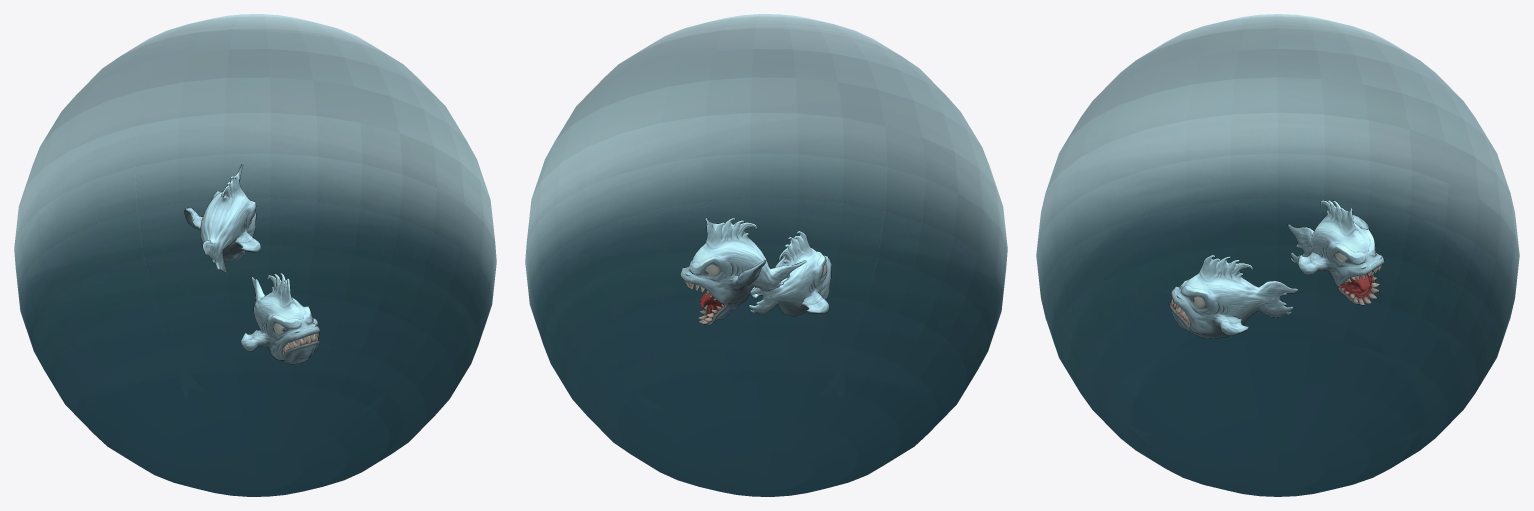
3 views of the same model, side by side, from view 1: azimuth 30°, elevation 25°; view 2: azimuth 150°, elevation 25°; view 3: azimuth 270°, elevation 25° (orthographic).
Visible parts, largest first — view 1: Sphere, FISH, FISH_ATTACK; view 2: Sphere, FISH_ATTACK, FISH, FISH_ATTACK_OUTLINE; view 3: Sphere, FISH, FISH_ATTACK.
Part boxes in pixels (x1,y1,x2,y2): Sphere: (14,14,496,496); FISH: (241,273,319,363); FISH_ATTACK: (184,164,260,272); Sphere: (525,14,1007,496); FISH_ATTACK: (680,218,805,324); FISH: (749,231,831,316); FISH_ATTACK_OUTLINE: (680,217,806,324); Sphere: (1036,14,1519,496); FISH: (1169,255,1297,338); FISH_ATTACK: (1288,200,1384,304).
Size of the model in its own units: 8.05 by 8.05 by 8.05.
Materials: 3 (2 with a texture image).
